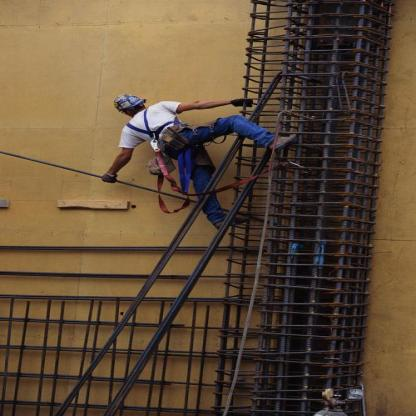helmet: (110, 92, 152, 117)
